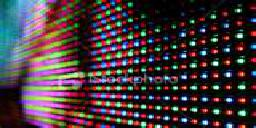LED: (35, 13, 244, 128)
